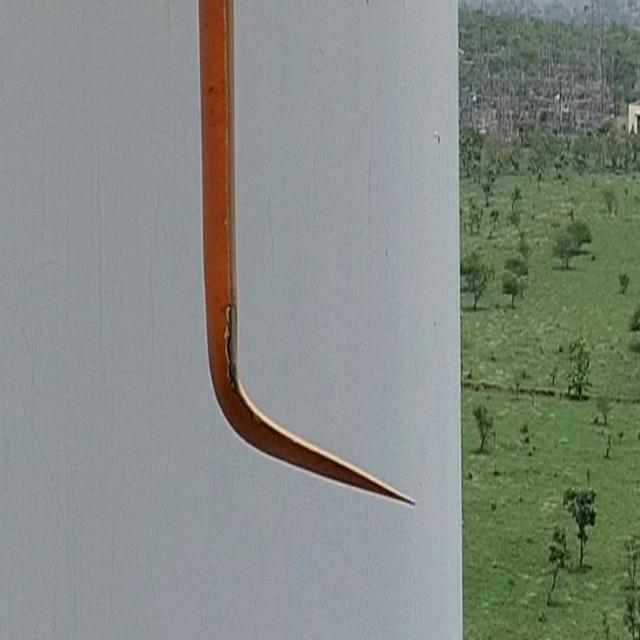EROSION: (217, 301, 244, 393)
